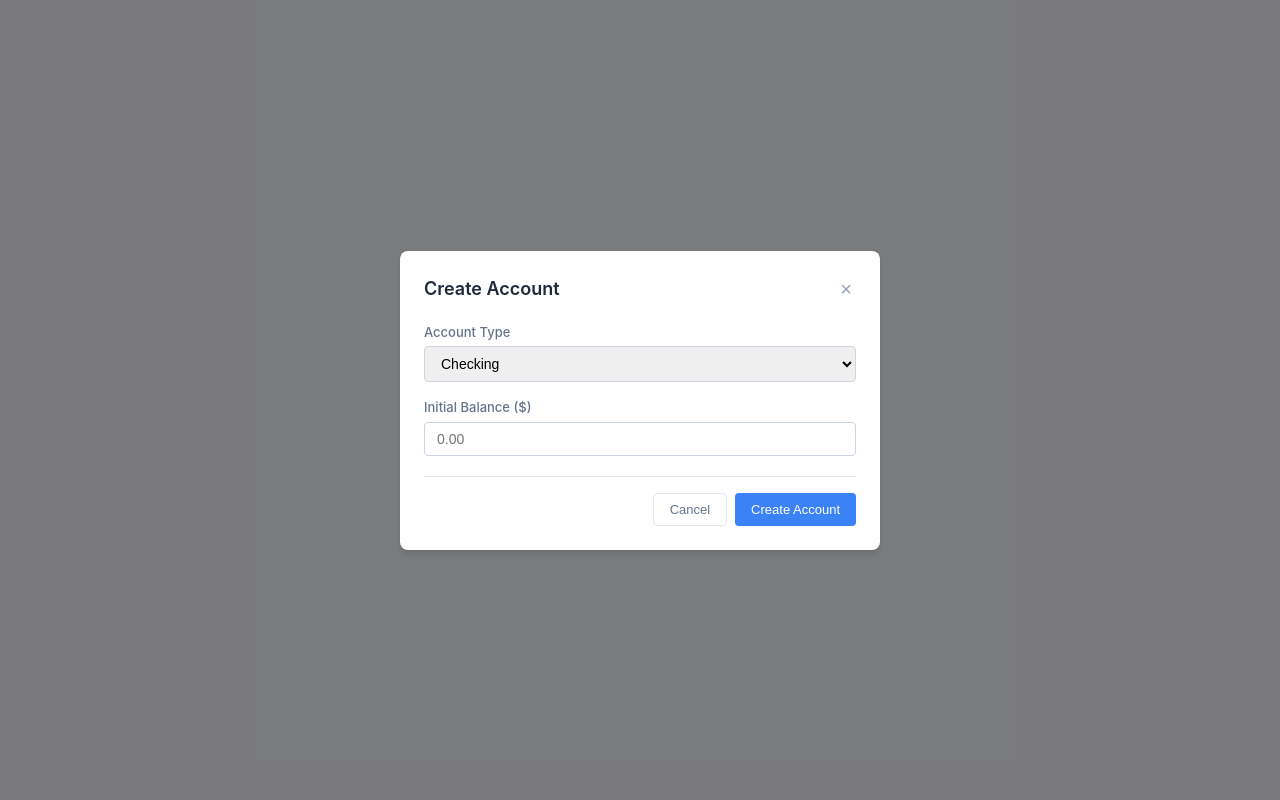
Scenario: AccountFormModal › shows error on submit failure
Click the button "Create Account": click(796, 509) [735,492,856,526]
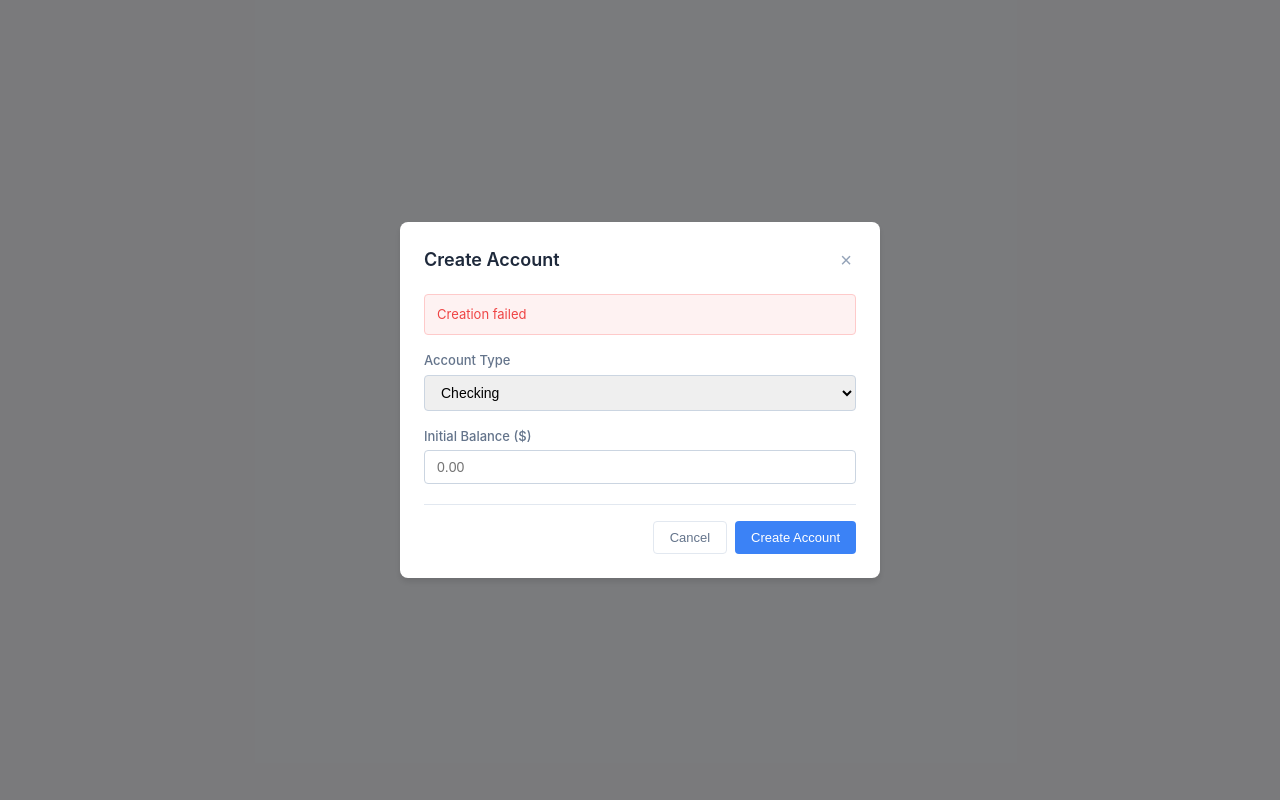
Expected: the text "Creation failed" is shown, [424,294,856,335]
